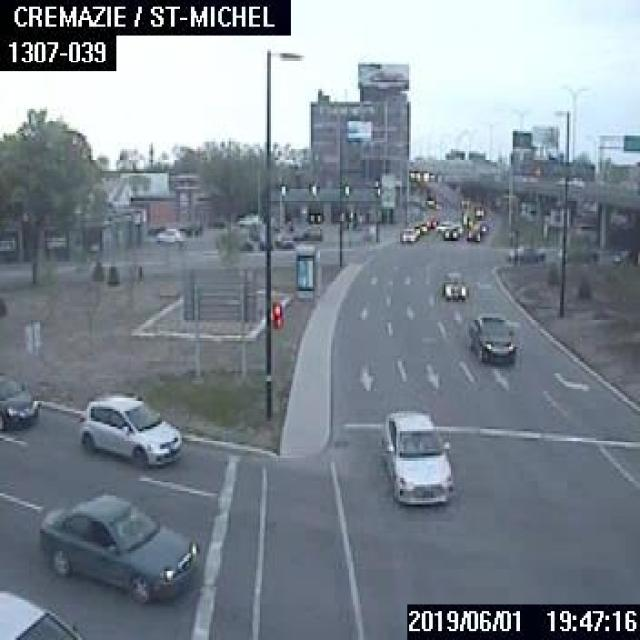vehicle: (36, 489, 202, 602), (76, 391, 182, 467), (379, 407, 453, 502), (0, 584, 82, 638), (466, 311, 518, 362), (0, 364, 38, 429), (504, 244, 546, 264), (557, 245, 598, 264), (440, 269, 465, 299), (155, 224, 186, 244), (610, 248, 638, 266), (273, 233, 293, 248), (398, 225, 414, 242), (465, 222, 479, 240), (434, 218, 452, 230), (425, 213, 436, 226), (476, 218, 486, 231), (411, 222, 419, 235)
